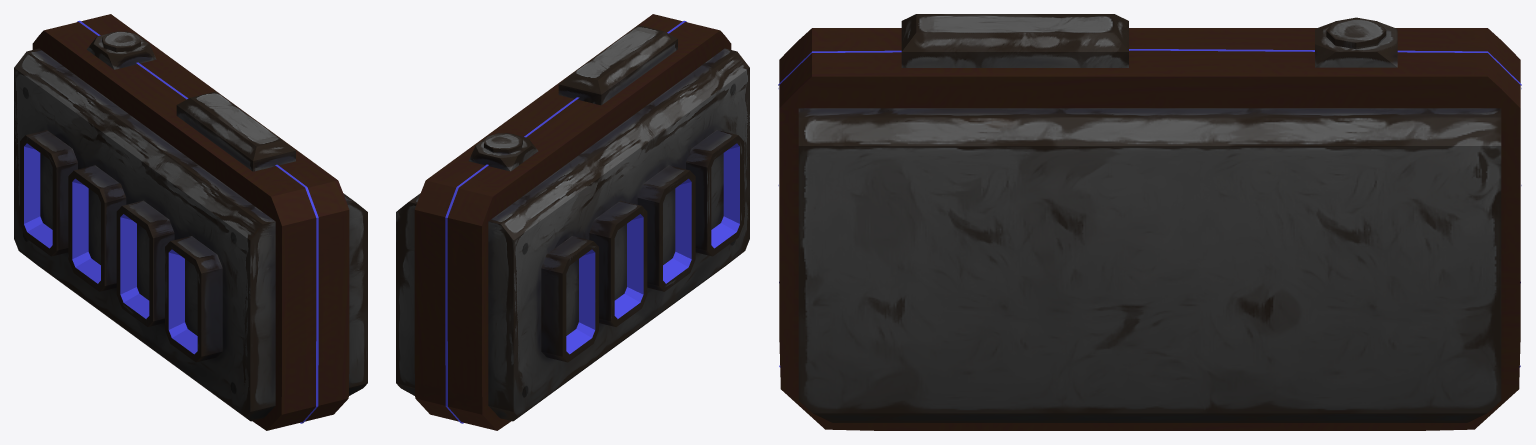
File: clocks_low.fbx
3 views of the same model, side by side, from view 1: azimuth 30°, elevation 25°; view 2: azimuth 150°, elevation 25°; view 3: azimuth 270°, elevation 25° (orthographic). The views are drawn at different scales.
Visible parts, largest first — view 1: clocks_low; view 2: clocks_low; view 3: clocks_low.
Boxes of the visible parts, box(x1,y1,x2,y2) form: clocks_low: box(14, 14, 367, 430); clocks_low: box(396, 14, 749, 430); clocks_low: box(778, 14, 1521, 430).
Size of the model in its own units: 151 by 469 by 267.
2 materials, 1 textured.
